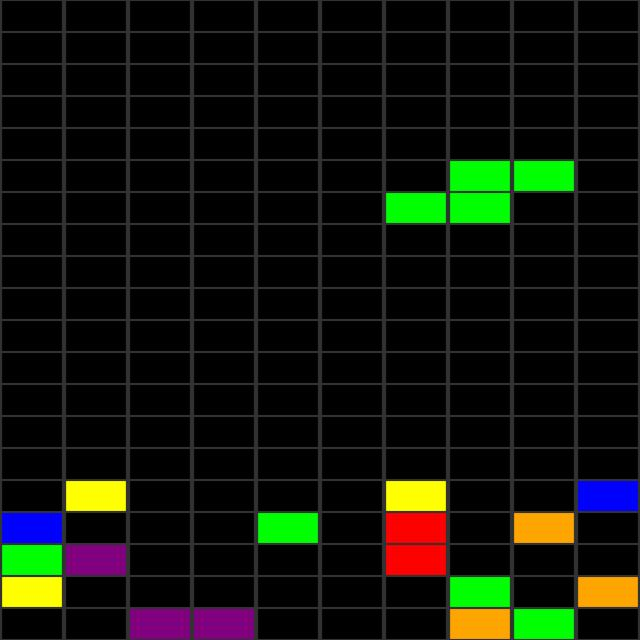Tetrimino_T: (389, 160, 577, 224)
